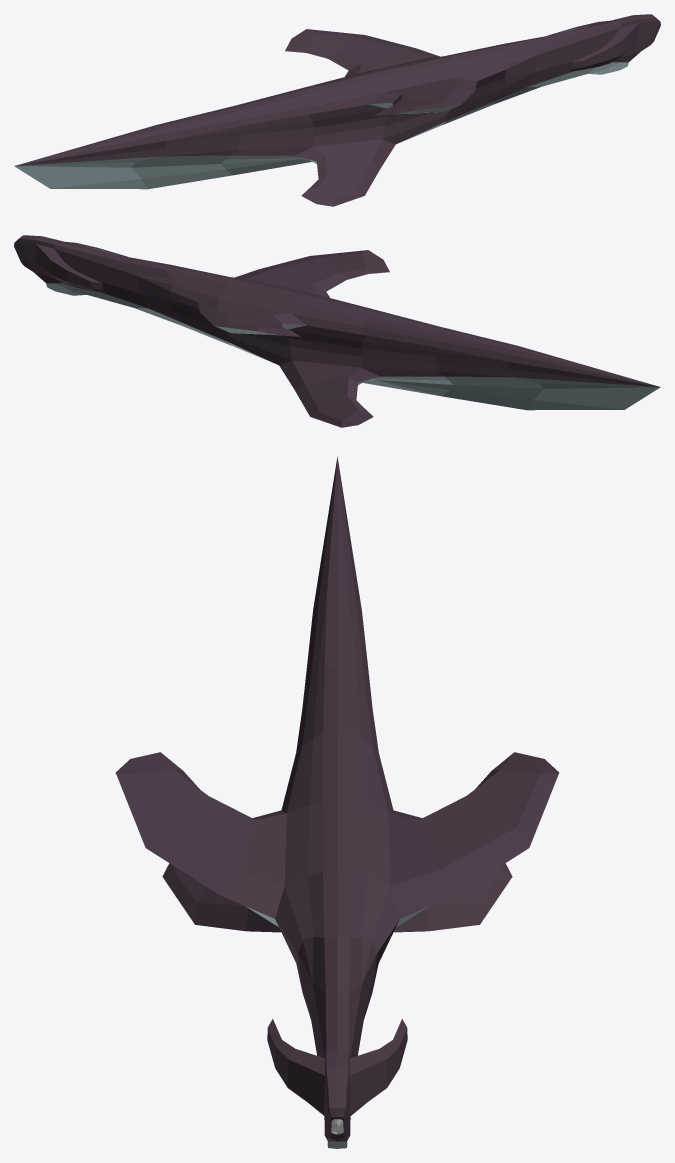
File: SpaceWhale.fbx
3 views of the same model, one above another, from view 1: azimuth 30°, elevation 25°; view 2: azimuth 150°, elevation 25°; view 3: azimuth 270°, elevation 25° (orthographic). The views are drawn at different scales.
Visible parts, largest first — view 1: Sphere.001; view 2: Sphere.001; view 3: Sphere.001.
Part boxes in pixels (left/top/right/bottom): Sphere.001: left=14, top=14, right=660, bottom=206; Sphere.001: left=14, top=235, right=660, bottom=427; Sphere.001: left=115, top=456, right=559, bottom=1148.
Bounding box in the file's own units: 1026 × 140 × 305.
